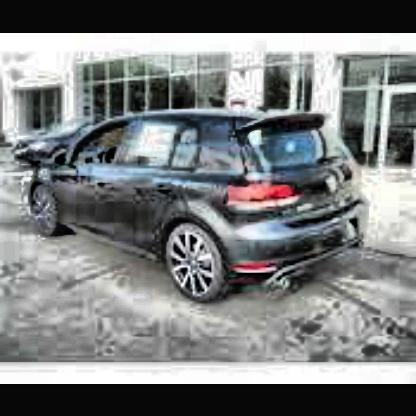Volkswagen Golf Hatchback 2012: (29, 106, 373, 308)
